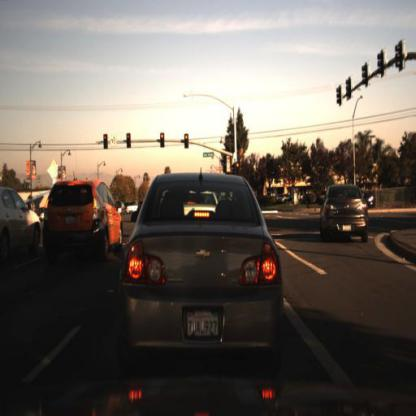car: (120, 172, 283, 369), (40, 177, 124, 274), (320, 180, 374, 250), (1, 190, 41, 260), (362, 187, 384, 221), (126, 198, 143, 216)
trafficLight-Red: (184, 130, 193, 149), (160, 132, 167, 150), (234, 157, 242, 172), (103, 133, 111, 146), (126, 130, 134, 143)
trafficLight-RedLeft: (126, 128, 134, 150), (102, 132, 110, 151)
